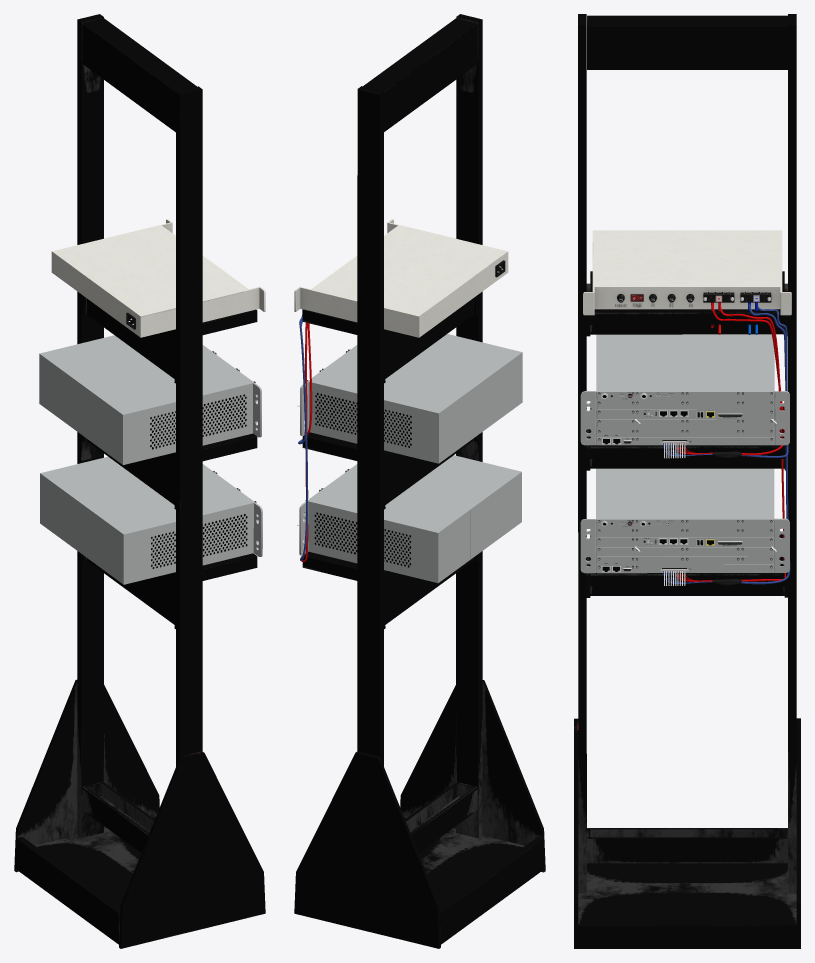
The model's file is Adjust Cable PSU to IDU2.fbx.
3 renders of one model, left to right at view 1: azimuth 30°, elevation 25°; view 2: azimuth 150°, elevation 25°; view 3: azimuth 270°, elevation 25°, orthographic. The views are drawn at different scales.
Visible parts, largest first — view 1: Cube, Cube_001, Cube_2, Cube_3, Cube_1, Cube_002, Cube_008, Cube_003, Cube_004__1_, Cube_004__3_, Cube_004__2_, IDU_A (+2 smaller); view 2: Cube, Cube_001, Cube_2, Cube_3, Cube_1, Cube_002, Cube_008, Cube_003, Cube_004__1_, Cube_004__3_, Cube_004__2_, IDU_B (+3 smaller); view 3: Cube_2, Cube_3, Cube_002, Cube_1, Cube, Cube_008, Cube_003, Power_Supply, IDU_B, IDU_A, Cube_001, Cube_004__3_ (+5 smaller).
Boxes of the visible parts, box(x1,y1,x2,y2) form: Cube: box(77, 14, 202, 837); Cube_001: box(14, 679, 265, 948); Cube_2: box(39, 335, 261, 464); Cube_3: box(40, 456, 262, 584); Cube_1: box(51, 219, 265, 337); Cube_002: box(16, 816, 156, 944); Cube_008: box(82, 18, 196, 132); Cube_003: box(82, 782, 154, 852); Cube_004__1_: box(86, 298, 175, 378); Cube_004__3_: box(86, 558, 175, 624); Cube_004__2_: box(86, 439, 175, 504); IDU_A: box(162, 433, 257, 465); Cube: box(357, 14, 482, 838); Cube_001: box(294, 680, 545, 948); Cube_2: box(300, 334, 522, 463); Cube_3: box(299, 455, 521, 583); Cube_1: box(294, 219, 508, 337); Cube_002: box(404, 816, 543, 944); Cube_008: box(363, 18, 477, 131); Cube_003: box(405, 782, 477, 852); Cube_004__1_: box(384, 298, 473, 378); Cube_004__3_: box(384, 558, 473, 624); Cube_004__2_: box(384, 439, 473, 504); IDU_B: box(302, 551, 399, 585); Cube_2: box(580, 334, 789, 445); Cube_3: box(580, 468, 789, 573); Cube_002: box(578, 863, 796, 948); Cube_1: box(583, 230, 791, 315); Cube: box(578, 14, 796, 893); Cube_008: box(587, 15, 787, 69); Cube_003: box(587, 828, 787, 863); Power_Supply: box(590, 271, 784, 324); IDU_B: box(590, 534, 784, 586); IDU_A: box(590, 406, 784, 458); Cube_001: box(574, 718, 800, 948); Cube_004__3_: box(590, 586, 784, 595).
Size of the model in its own units: 36.94 by 179 by 41.23.
